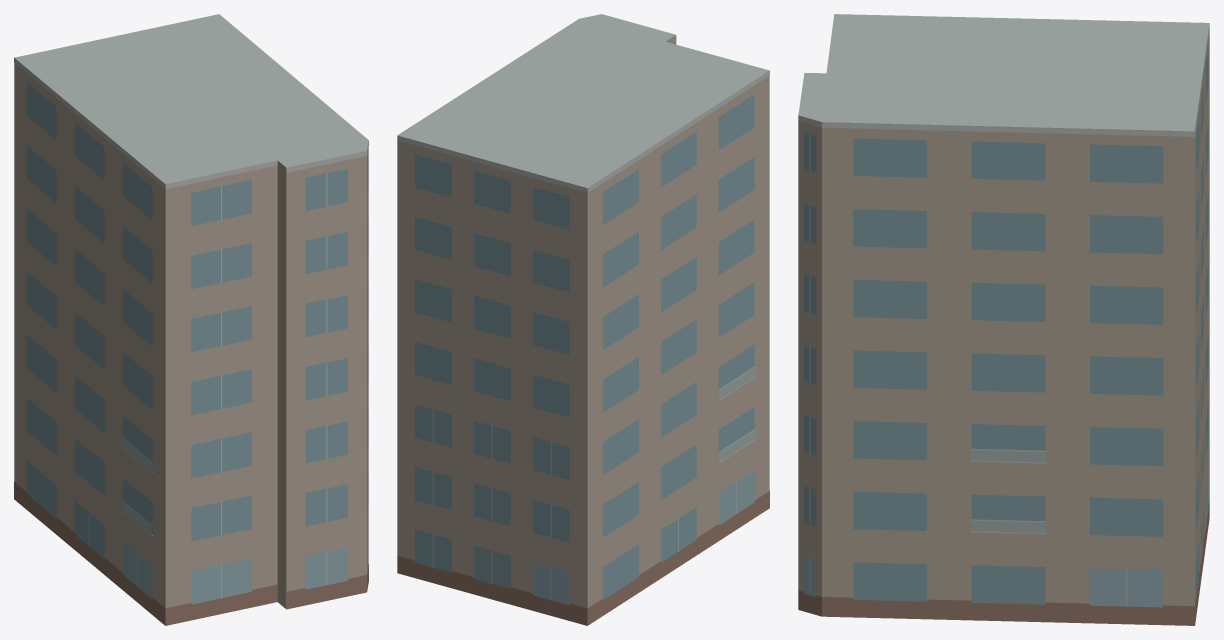
Rendered from survey-upis-32701727.glb.
The picture shows the model from 3 angles, left to right: view 1: azimuth 30°, elevation 25°; view 2: azimuth 150°, elevation 25°; view 3: azimuth 270°, elevation 25°; orthographic projection. The views are drawn at different scales.
Parts seen in each view (by area): view 1: survey-upis-32701727.tmp; view 2: survey-upis-32701727.tmp; view 3: survey-upis-32701727.tmp.
Boxes of the visible parts, box(x1,y1,x2,y2) form: survey-upis-32701727.tmp: box(14, 14, 368, 625); survey-upis-32701727.tmp: box(397, 14, 769, 625); survey-upis-32701727.tmp: box(798, 14, 1209, 625).
Size of the model in its own units: 10.88 by 21.35 by 16.1.
